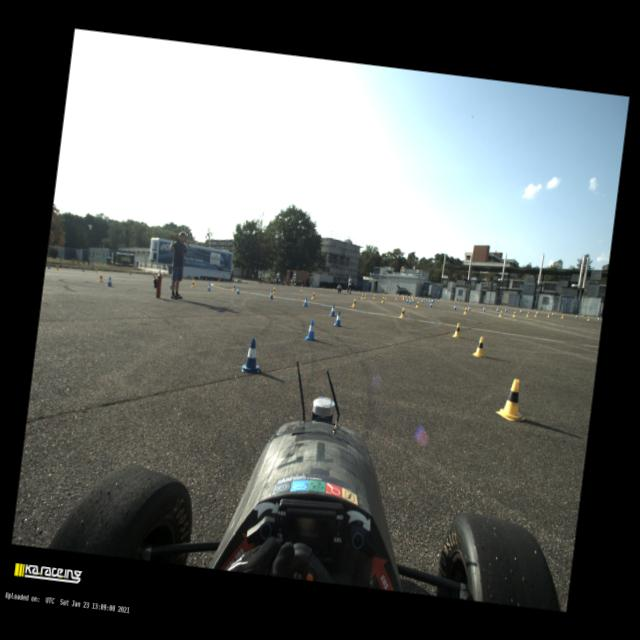blue_cone: (241, 336, 262, 374), (304, 318, 319, 341), (333, 310, 344, 326), (328, 304, 336, 316), (106, 276, 114, 286), (302, 296, 309, 306), (268, 290, 275, 300), (236, 286, 241, 294), (206, 282, 211, 290), (168, 280, 172, 288), (452, 304, 457, 310), (428, 302, 432, 308), (408, 298, 412, 304), (518, 308, 522, 314), (482, 306, 486, 311), (596, 316, 600, 321), (495, 307, 499, 312), (421, 298, 424, 304), (427, 298, 430, 303), (467, 305, 470, 310), (504, 307, 507, 312), (48, 264, 51, 268), (82, 268, 85, 272), (431, 298, 434, 302), (551, 312, 554, 316), (129, 271, 131, 275), (309, 284, 311, 288), (412, 298, 414, 302), (406, 298, 408, 302), (434, 298, 436, 302), (536, 310, 538, 314), (575, 314, 577, 318), (245, 280, 247, 283), (298, 284, 300, 287), (438, 299, 440, 302), (323, 286, 325, 289), (201, 276, 202, 280), (223, 278, 224, 282), (352, 289, 353, 292), (367, 290, 368, 293), (381, 292, 382, 295), (424, 296, 425, 299), (417, 295, 418, 298), (260, 282, 261, 284)
large_orange_cone: (300, 284, 302, 288), (290, 282, 291, 286)
yellow_cone: (494, 377, 529, 422), (472, 335, 486, 357), (452, 322, 462, 337), (398, 307, 406, 318), (310, 290, 316, 300), (98, 273, 104, 282), (351, 298, 356, 307), (190, 279, 195, 287), (462, 307, 467, 314), (415, 300, 419, 308), (272, 286, 276, 294), (232, 283, 236, 290), (498, 310, 502, 316), (512, 310, 516, 316), (380, 296, 384, 302), (384, 294, 388, 300), (232, 280, 236, 286), (546, 312, 550, 317), (94, 268, 98, 273), (526, 310, 529, 316), (360, 293, 363, 299), (372, 294, 376, 298), (56, 265, 59, 270), (534, 312, 537, 316), (561, 314, 564, 318), (369, 290, 372, 294), (428, 296, 431, 300), (586, 316, 588, 321), (402, 295, 404, 300), (395, 296, 397, 300), (364, 294, 366, 298), (192, 276, 194, 280), (217, 278, 219, 282), (250, 280, 252, 284), (265, 281, 267, 285), (406, 294, 408, 298), (411, 295, 413, 299), (393, 292, 395, 296), (321, 286, 322, 290), (333, 286, 334, 290), (346, 288, 347, 292), (358, 289, 359, 293), (409, 294, 410, 298), (292, 284, 293, 287), (280, 283, 280, 286), (384, 292, 384, 294), (402, 294, 402, 297)
